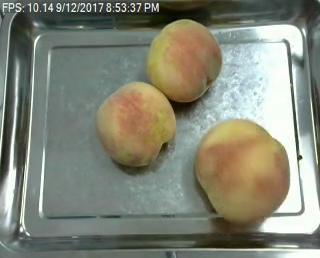Peach: (194, 117, 290, 224), (95, 80, 177, 168), (145, 19, 223, 101)
